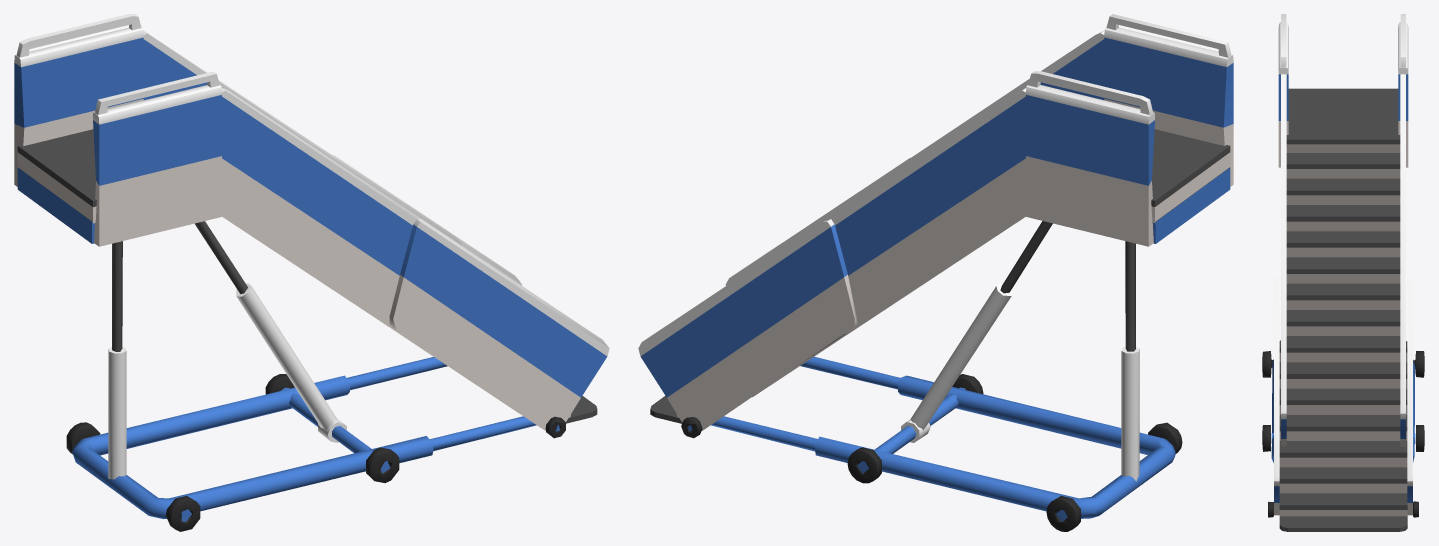
The model's file is escalier_pack-a_KvoT-g.glb.
3 views of the same model, side by side, from view 1: azimuth 30°, elevation 25°; view 2: azimuth 150°, elevation 25°; view 3: azimuth 270°, elevation 25° (orthographic). The views are drawn at different scales.
Visible parts, largest first — view 1: 03.AirplaneStairs_Cube.065; view 2: 03.AirplaneStairs_Cube.065; view 3: 03.AirplaneStairs_Cube.065.
Part boxes in pixels (bbox=[...]): 03.AirplaneStairs_Cube.065: bbox=[14, 14, 609, 531]; 03.AirplaneStairs_Cube.065: bbox=[638, 14, 1233, 531]; 03.AirplaneStairs_Cube.065: bbox=[1262, 14, 1424, 531].
Size of the model in its own units: 9.61 by 7.96 by 3.47.
Materials: 1 (1 with a texture image).
